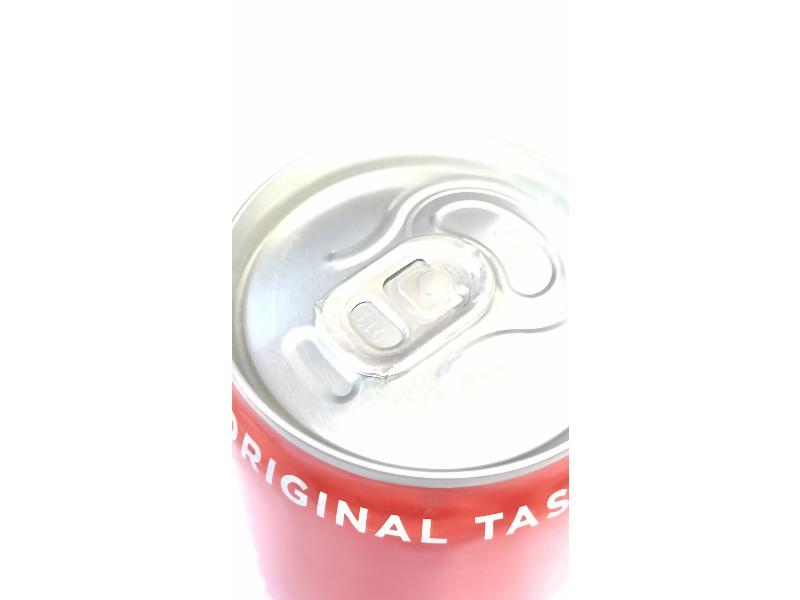can: (234, 129, 566, 574)
